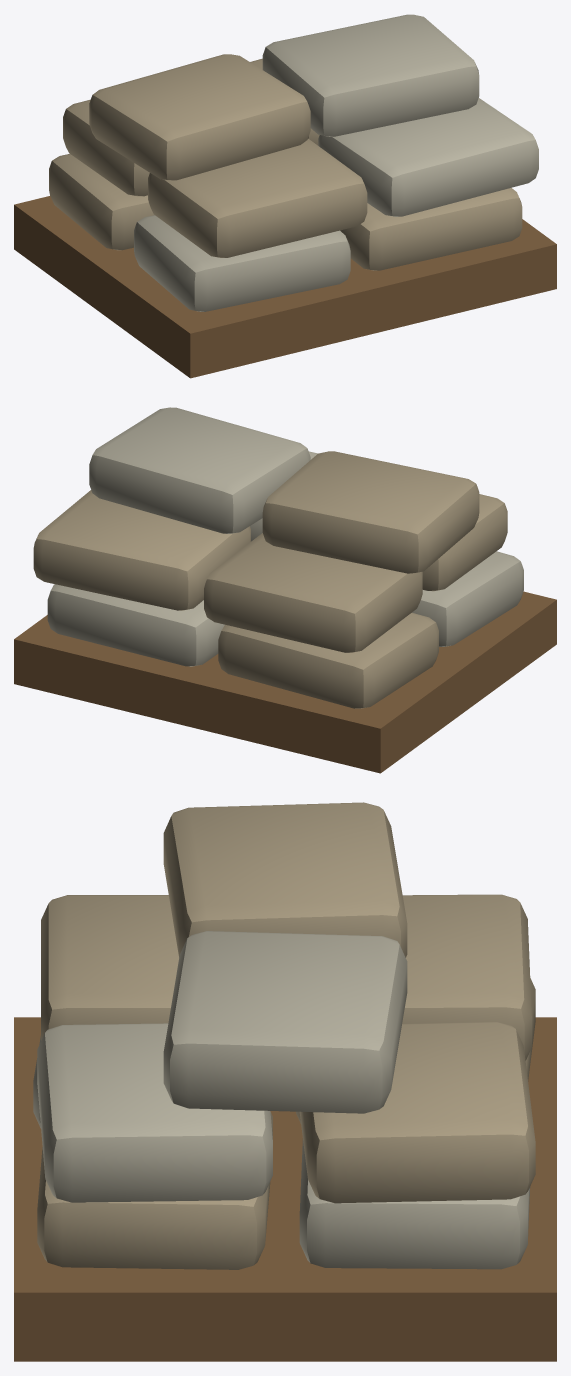
The model's file is sack-pallet.glb.
The picture shows the model from 3 angles, top to bottom: view 1: azimuth 30°, elevation 25°; view 2: azimuth 150°, elevation 25°; view 3: azimuth 270°, elevation 25°; orthographic projection. The views are drawn at different scales.
Visible parts, largest first — view 1: Piece_lod0; view 2: Piece_lod0; view 3: Piece_lod0.
Boxes of the visible parts, x1,y1,x2,y2 form: Piece_lod0: (14, 14, 556, 378); Piece_lod0: (14, 407, 556, 773); Piece_lod0: (14, 802, 556, 1361).
Size of what is drawn, in the model's own units: 1.2 by 0.62 by 1.
